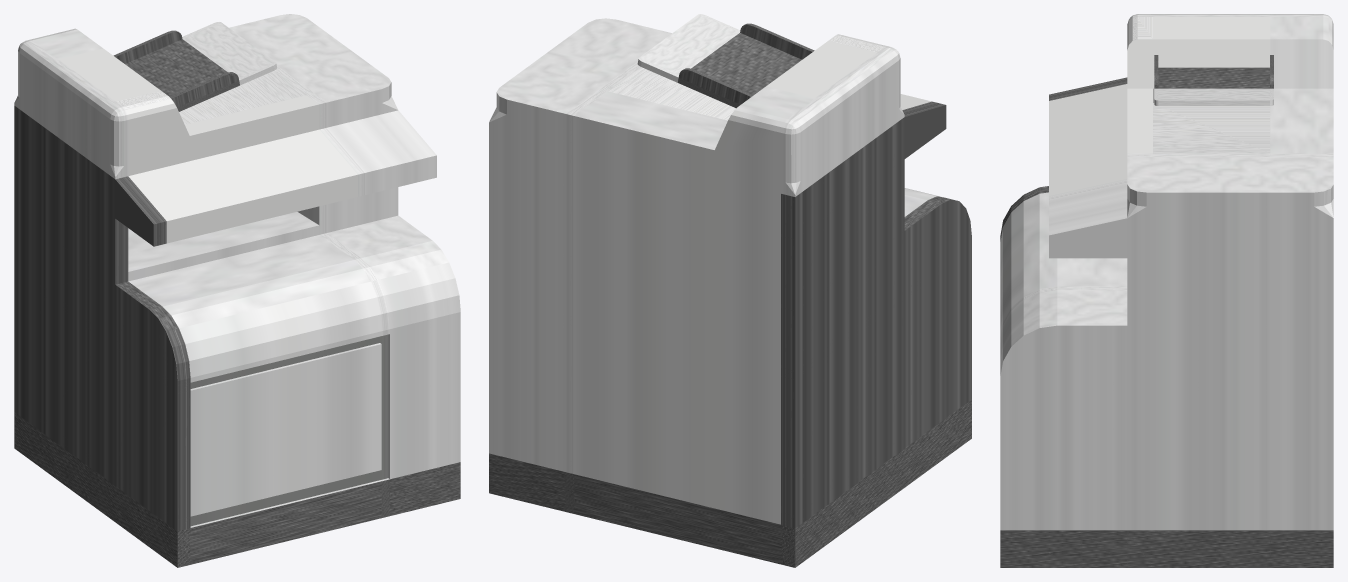
The model's file is PrinterV1.gltf.
The picture shows the model from 3 angles, left to right: view 1: azimuth 30°, elevation 25°; view 2: azimuth 150°, elevation 25°; view 3: azimuth 270°, elevation 25°; orthographic projection. The views are drawn at different scales.
Visible parts, largest first — view 1: Cube, Cube.001; view 2: Cube, Cube.001; view 3: Cube, Cube.001.
Part boxes in pixels (x1,y1,x2,y2): Cube: (14, 14, 460, 567); Cube.001: (113, 22, 276, 111); Cube: (489, 18, 971, 567); Cube.001: (637, 14, 814, 108); Cube: (1000, 14, 1333, 567); Cube.001: (1154, 55, 1273, 105).
Bounding box in the file's own units: 0.5 × 0.6892 × 0.5.
1 material, 1 textured.
